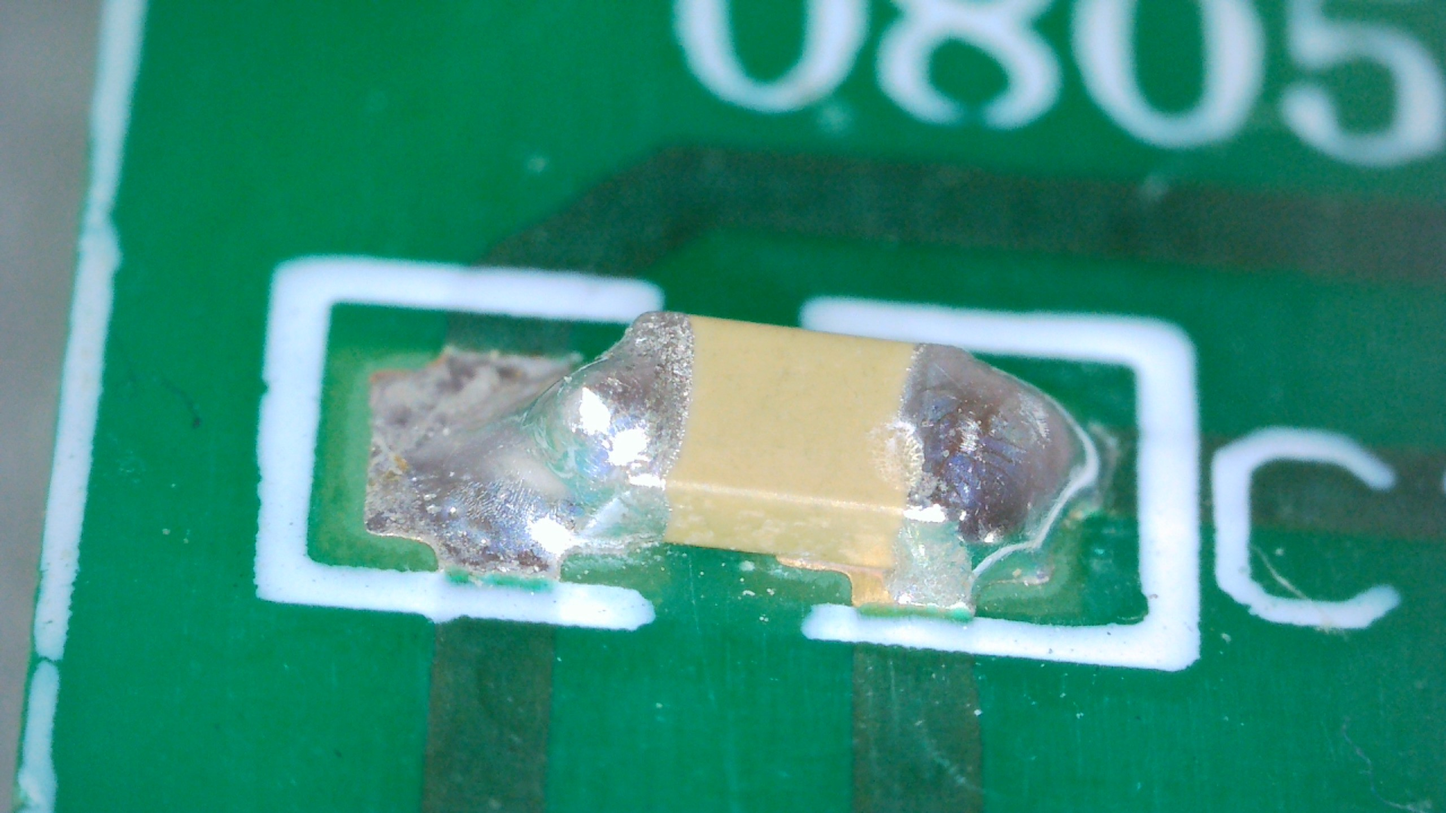NG: (368, 316, 687, 573), (901, 347, 1073, 547), (506, 366, 669, 487)
